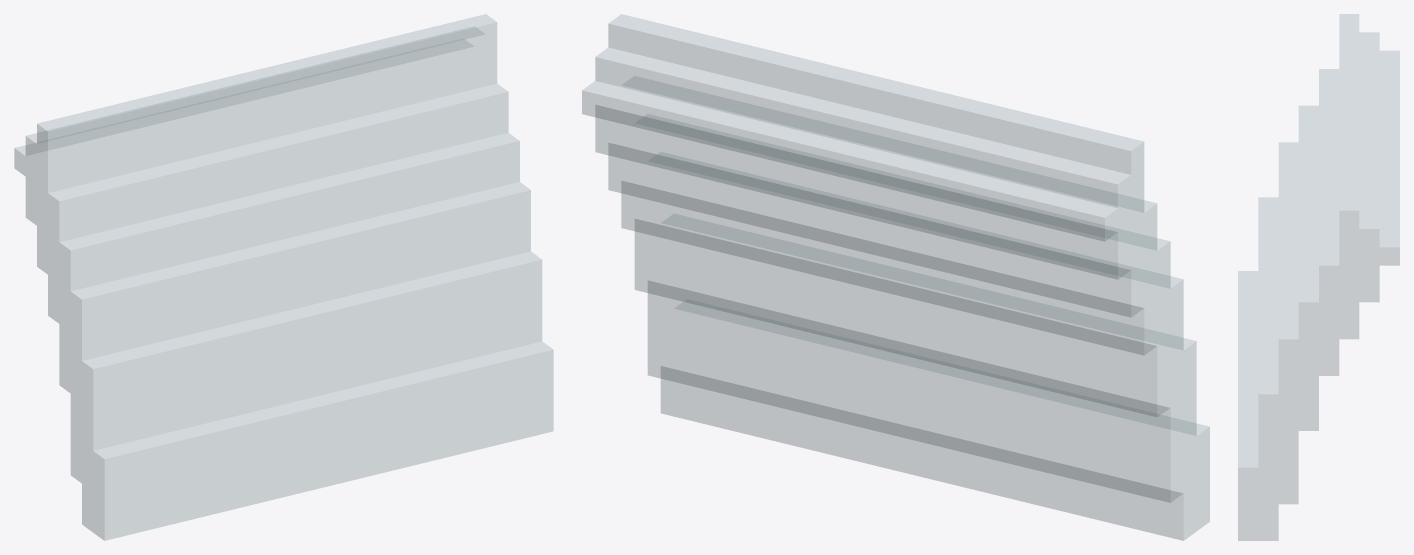
File: military_transport_helicopter_side_window.glb
The picture shows the model from 3 angles, left to right: view 1: azimuth 30°, elevation 25°; view 2: azimuth 150°, elevation 25°; view 3: azimuth 270°, elevation 25°; orthographic projection. The views are drawn at different scales.
Parts seen in each view (by area): view 1: body:compound; view 2: body:compound; view 3: body:compound.
Boxes of the visible parts, box(x1,y1,x2,y2) form: body:compound: box(14, 14, 553, 540); body:compound: box(582, 14, 1209, 540); body:compound: box(1238, 14, 1399, 540).
Size of the model in its own units: 0.7188 by 0.5625 by 0.25.
